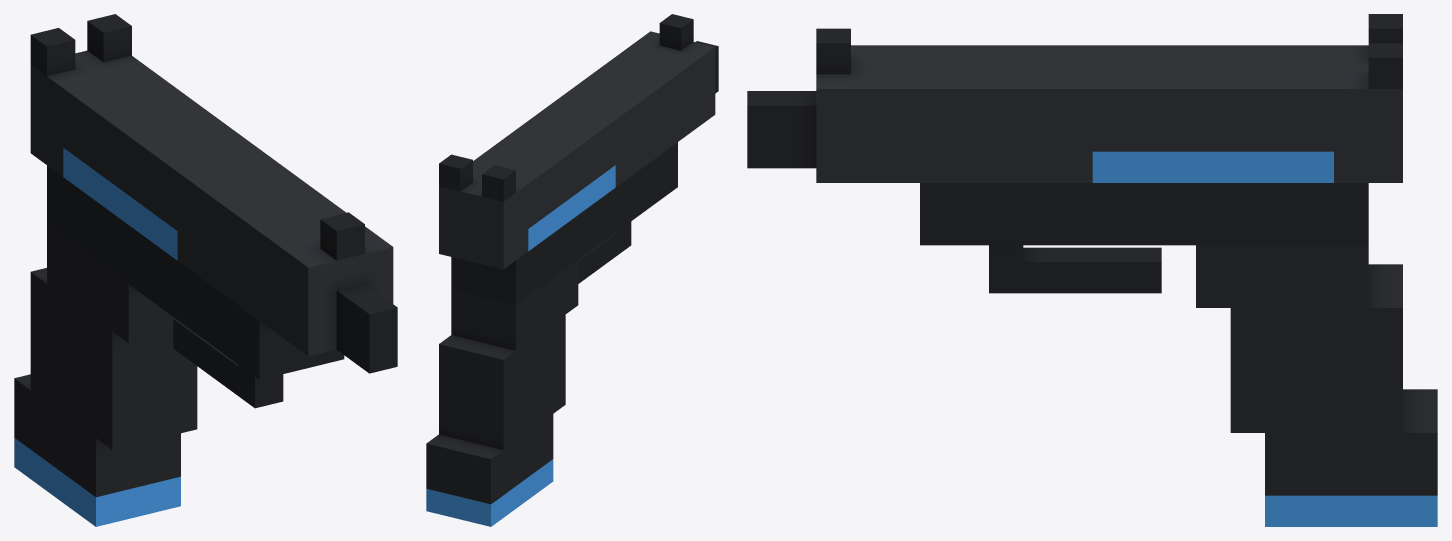
File: plinker_rare.glb
3 renders of one model, left to right at view 1: azimuth 30°, elevation 25°; view 2: azimuth 150°, elevation 25°; view 3: azimuth 270°, elevation 25°, orthographic. The views are drawn at different scales.
Visible parts, largest first — view 1: plinker_rare_body; view 2: plinker_rare_body; view 3: plinker_rare_body.
Part boxes in pixels (left/top/right/bottom): plinker_rare_body: left=14, top=14, right=397, bottom=526; plinker_rare_body: left=426, top=14, right=718, bottom=526; plinker_rare_body: left=747, top=14, right=1437, bottom=526.
Size of the model in its own units: 0.1172 by 0.5859 by 0.7812.
1 material, 1 textured.
